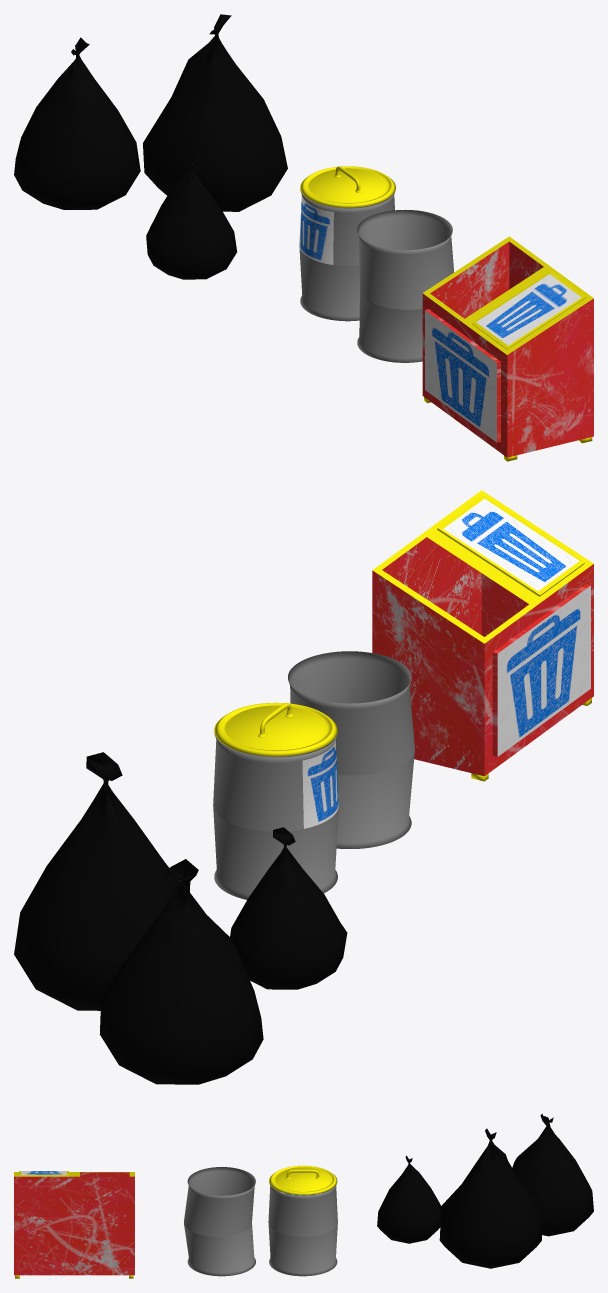
File: low_poly_garbajebasura_lowpoly.glb
3 views of the same model, one above another, from view 1: azimuth 30°, elevation 25°; view 2: azimuth 150°, elevation 25°; view 3: azimuth 270°, elevation 25° (orthographic). The views are drawn at different scales.
Parts seen in each view (by area): view 1: Contenedor_6, Bag_1_0, Bag_1.002_2, Garbaje_Bote_2_5, Garbaje_Bote_3, Bag_1.001_1, Tapa_4; view 2: Contenedor_6, Bag_1.002_2, Bag_1_0, Garbaje_Bote_2_5, Garbaje_Bote_3, Bag_1.001_1, Tapa_4; view 3: Contenedor_6, Bag_1_0, Garbaje_Bote_2_5, Garbaje_Bote_3, Bag_1.002_2, Bag_1.001_1, Tapa_4.
Part boxes in pixels (bbox=[...]): Contenedor_6: bbox=[422, 236, 593, 461]; Bag_1_0: bbox=[143, 14, 287, 211]; Bag_1.002_2: bbox=[14, 37, 140, 209]; Garbaje_Bote_2_5: bbox=[357, 209, 453, 362]; Garbaje_Bote_3: bbox=[299, 190, 395, 321]; Bag_1.001_1: bbox=[146, 155, 237, 279]; Tapa_4: bbox=[300, 166, 395, 207]; Contenedor_6: bbox=[372, 490, 593, 781]; Bag_1.002_2: bbox=[99, 859, 263, 1084]; Bag_1_0: bbox=[14, 752, 179, 1010]; Garbaje_Bote_2_5: bbox=[288, 651, 414, 848]; Garbaje_Bote_3: bbox=[213, 732, 338, 899]; Bag_1.001_1: bbox=[230, 827, 347, 989]; Tapa_4: bbox=[214, 702, 337, 756]; Contenedor_6: bbox=[14, 1171, 134, 1278]; Bag_1_0: bbox=[439, 1128, 542, 1268]; Garbaje_Bote_2_5: bbox=[184, 1167, 255, 1276]; Garbaje_Bote_3: bbox=[268, 1182, 337, 1276]; Bag_1.002_2: bbox=[512, 1113, 593, 1236]; Bag_1.001_1: bbox=[377, 1155, 441, 1243]; Tapa_4: bbox=[269, 1165, 337, 1195].
Bounding box in the file's own units: 1.77 × 1.54 × 5.76.
Materials: 5 (2 with a texture image).
